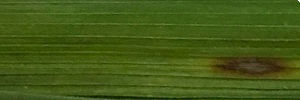RiceBlast: (210, 48, 298, 84)
